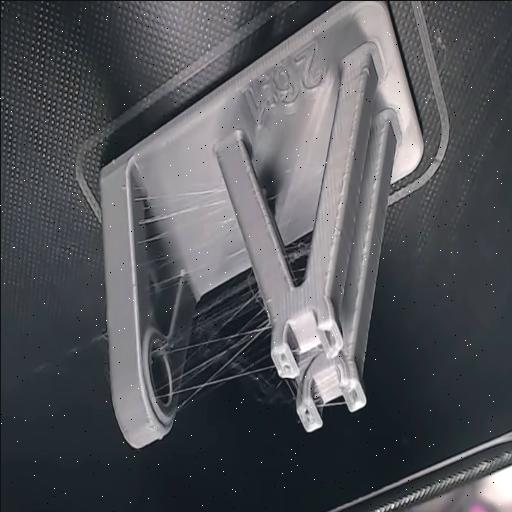stringing: (160, 312, 290, 436), (134, 174, 234, 302)
